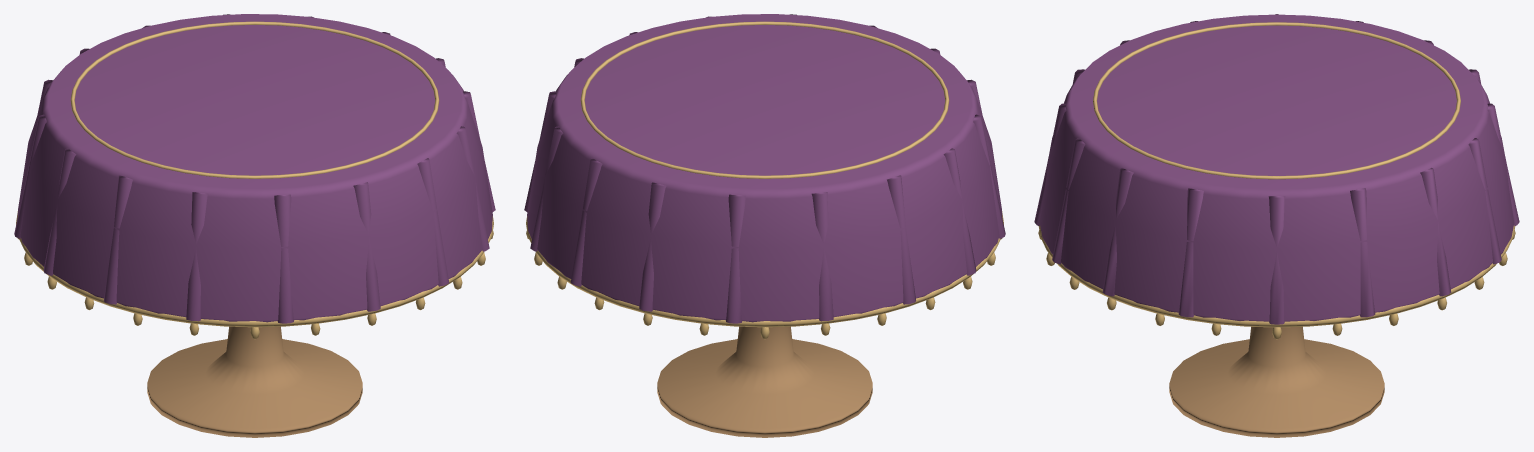
File: Reading_Table.fbx
3 renders of one model, left to right at view 1: azimuth 30°, elevation 25°; view 2: azimuth 150°, elevation 25°; view 3: azimuth 270°, elevation 25°, orthographic.
Parts seen in each view (by area): view 1: Reading_Table_Mesh; view 2: Reading_Table_Mesh; view 3: Reading_Table_Mesh.
Part boxes in pixels (left/top/right/bottom): Reading_Table_Mesh: left=14, top=14, right=495, bottom=437; Reading_Table_Mesh: left=524, top=14, right=1005, bottom=437; Reading_Table_Mesh: left=1034, top=14, right=1519, bottom=437.
Bounding box in the file's own units: 1.17 × 0.7813 × 1.17.
